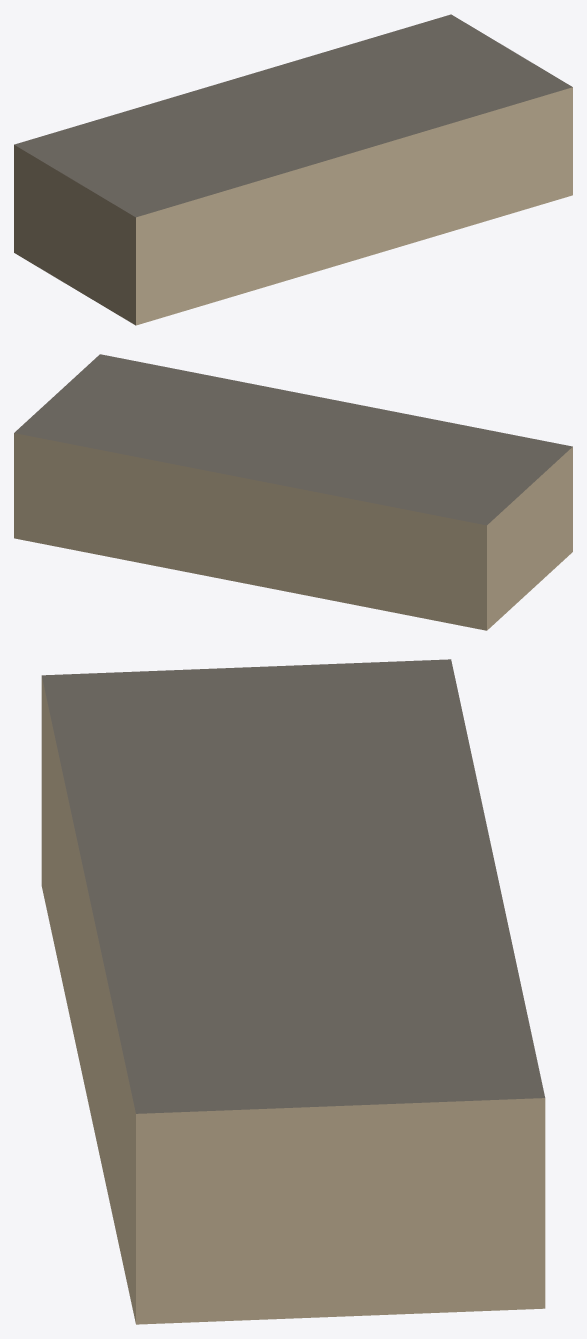
The picture shows the model from 3 angles, top to bottom: view 1: azimuth 30°, elevation 25°; view 2: azimuth 150°, elevation 25°; view 3: azimuth 270°, elevation 25°; orthographic projection. The views are drawn at different scales.
Parts seen in each view (by area): view 1: HP-w1333613413; view 2: HP-w1333613413; view 3: HP-w1333613413.
Part boxes in pixels (x1,y1,x2,y2): HP-w1333613413: [14, 14, 572, 325]; HP-w1333613413: [14, 354, 572, 630]; HP-w1333613413: [41, 659, 545, 1324].
Bounding box in the file's own units: 61.07 × 13.2 × 28.59.
